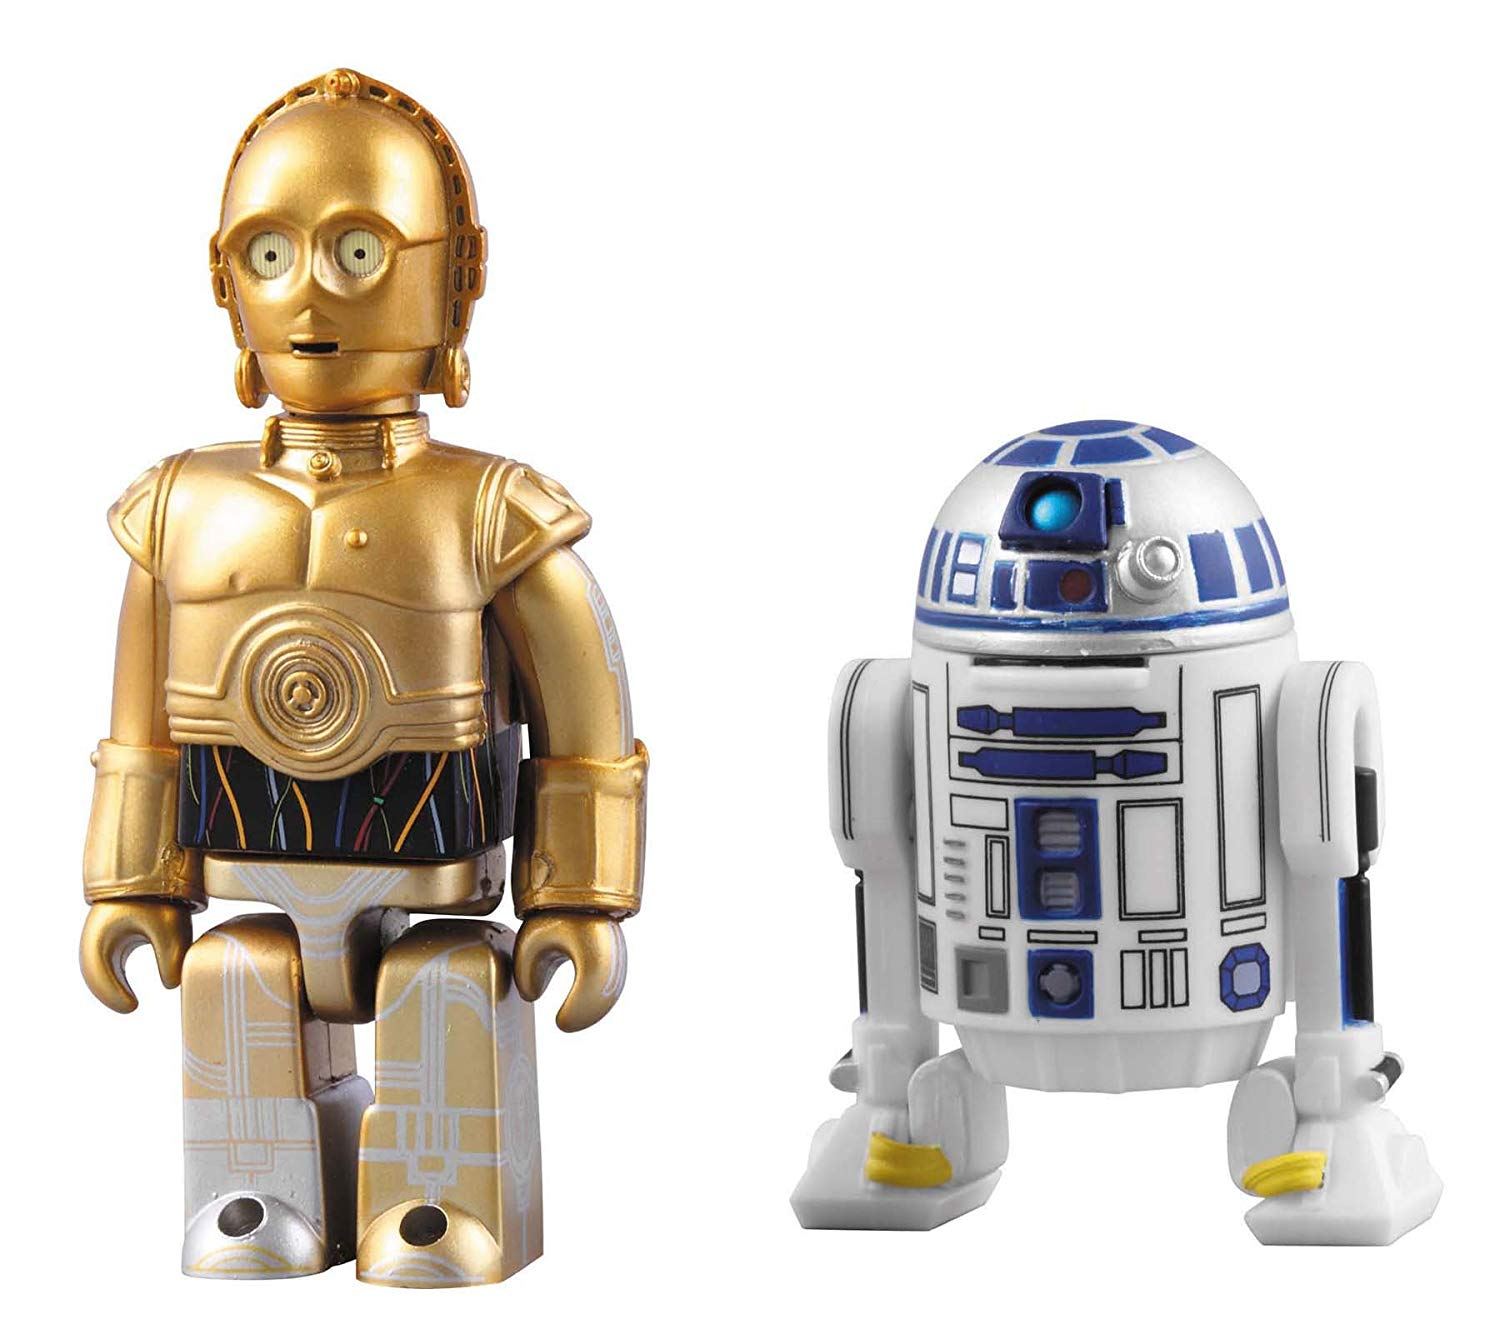r2d2: (795, 421, 1439, 1245)
